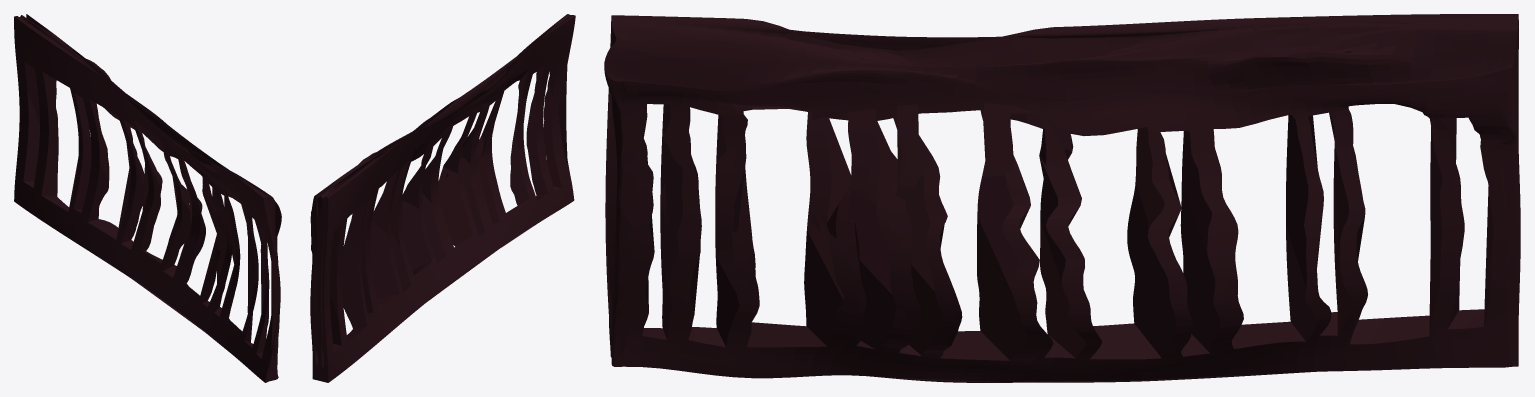
The model's file is rail.fbx.
3 renders of one model, left to right at view 1: azimuth 30°, elevation 25°; view 2: azimuth 150°, elevation 25°; view 3: azimuth 270°, elevation 25°, orthographic. The views are drawn at different scales.
Parts seen in each view (by area): view 1: rail front; view 2: rail front; view 3: rail front.
Boxes of the visible parts, left/top/right/bottom form: rail front: left=14, top=14, right=281, bottom=382; rail front: left=310, top=14, right=575, bottom=382; rail front: left=604, top=14, right=1520, bottom=382.
Bounding box in the file's own units: 61.97 × 206 × 491.
